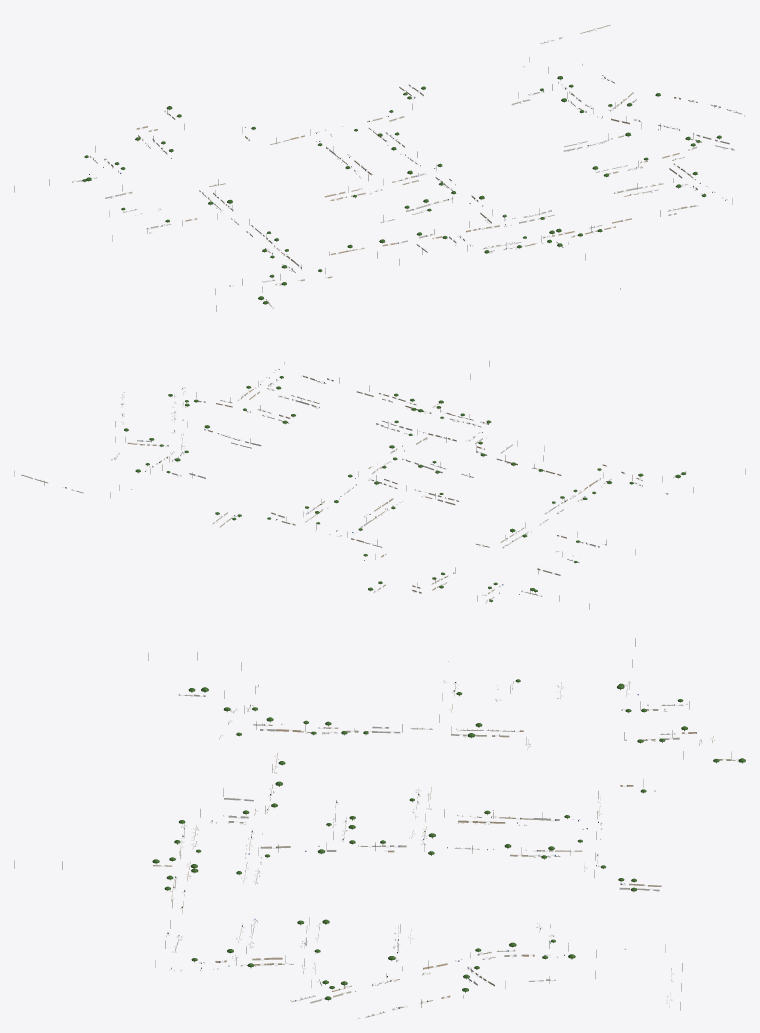
The model's file is nd_stm_m8_m2.glb.
3 renders of one model, top to bottom at view 1: azimuth 30°, elevation 25°; view 2: azimuth 150°, elevation 25°; view 3: azimuth 270°, elevation 25°, orthographic. The views are drawn at different scales.
Visible parts, largest first — view 1: nd_stm_m8_m2_lod0; view 2: nd_stm_m8_m2_lod0; view 3: nd_stm_m8_m2_lod0.
Part boxes in pixels (x1,y1,x2,y2): nd_stm_m8_m2_lod0: (14,24,745,311); nd_stm_m8_m2_lod0: (14,361,745,609); nd_stm_m8_m2_lod0: (14,638,745,1018).
Size of what is drawn, in the model's own units: 775 by 22.62 by 632.
